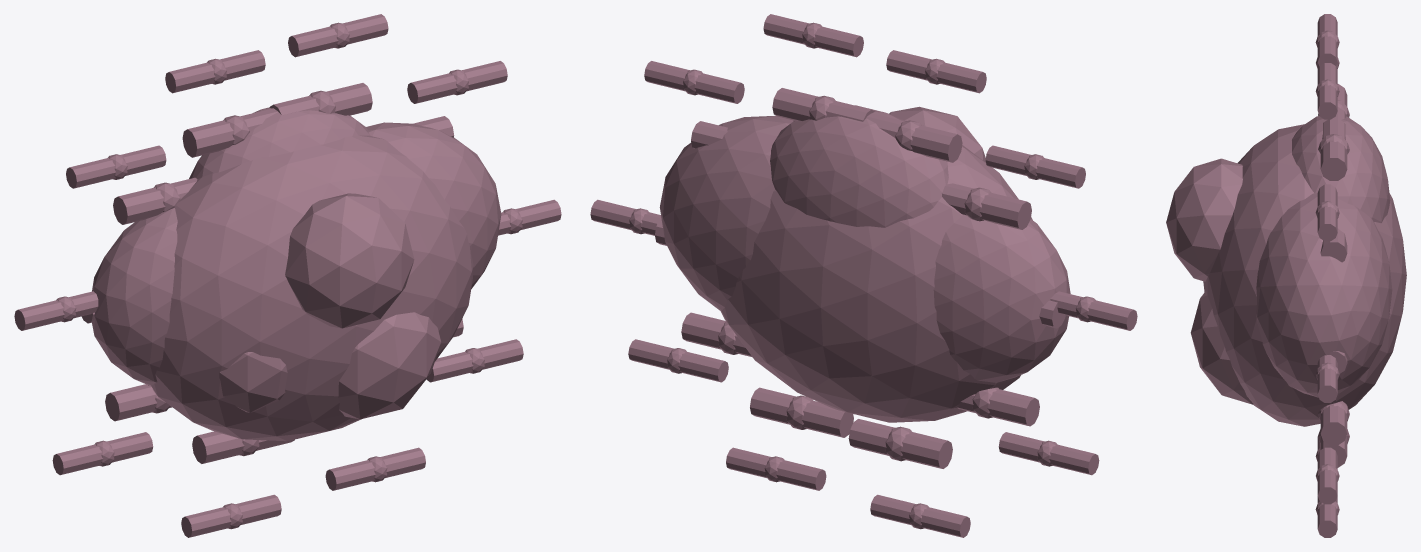
File: 33_alien_growth.glb
3 views of the same model, side by side, from view 1: azimuth 30°, elevation 25°; view 2: azimuth 150°, elevation 25°; view 3: azimuth 270°, elevation 25° (orthographic). The views are drawn at different scales.
Parts seen in each view (by area): view 1: part_1, part_12, part_2, part_3, part_8, part_4, part_6, root_3_2, root_2_2, root_8_2, root_4_2, root_7_2 (+10 smaller); view 2: part_1, part_2, part_3, part_4, root_7_1, root_8_1, root_4_1, root_9_2, root_3_2, root_2_2, root_8_2, root_4_2 (+11 smaller); view 3: part_3, part_1, part_12, part_4, part_8, root_2_1, root_1_2, root_9_2, root_2_2, root_9_1, root_3_2, root_0_2 (+3 smaller).
Part boxes in pixels (bbox=[...]): part_1: bbox=[151, 135, 473, 441]; part_12: bbox=[285, 193, 414, 328]; part_2: bbox=[92, 208, 177, 385]; part_3: bbox=[366, 122, 501, 288]; part_8: bbox=[338, 312, 440, 419]; part_4: bbox=[189, 107, 369, 178]; part_6: bbox=[219, 352, 287, 412]; root_3_2: bbox=[165, 50, 265, 93]; root_2_2: bbox=[288, 14, 388, 57]; root_8_2: bbox=[325, 447, 425, 490]; root_4_2: bbox=[66, 145, 166, 188]; root_7_2: bbox=[181, 494, 281, 537]; part_1: bbox=[721, 119, 1032, 422]; part_2: bbox=[933, 214, 1070, 382]; part_3: bbox=[659, 115, 792, 311]; part_4: bbox=[770, 105, 948, 227]; root_7_1: bbox=[848, 419, 952, 468]; root_8_1: bbox=[750, 387, 853, 437]; root_4_1: bbox=[941, 183, 1031, 229]; root_9_2: bbox=[628, 339, 728, 382]; root_3_2: bbox=[886, 50, 986, 93]; root_2_2: bbox=[763, 14, 863, 57]; root_8_2: bbox=[726, 447, 826, 490]; root_4_2: bbox=[985, 145, 1085, 188]; part_3: bbox=[1256, 193, 1392, 397]; part_1: bbox=[1203, 124, 1406, 426]; part_12: bbox=[1166, 158, 1242, 281]; part_4: bbox=[1292, 116, 1390, 222]; part_8: bbox=[1190, 291, 1253, 404]; root_2_1: bbox=[1320, 118, 1347, 180]; root_1_2: bbox=[1317, 184, 1337, 241]; root_9_2: bbox=[1317, 447, 1337, 504]; root_2_2: bbox=[1317, 63, 1337, 119]; root_9_1: bbox=[1320, 402, 1347, 445]; root_3_2: bbox=[1317, 14, 1337, 66]; root_0_2: bbox=[1317, 355, 1337, 402].
Size of the model in its own units: 2.69 by 2.3 by 1.16.
